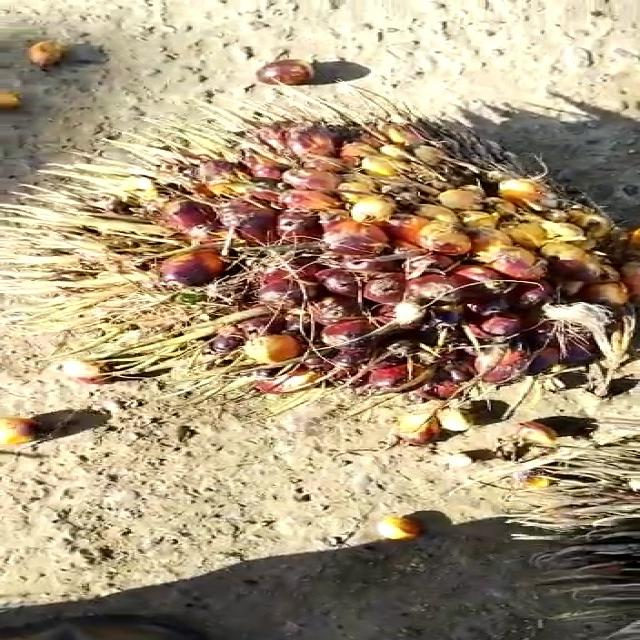palm oil: (59, 111, 640, 428)
